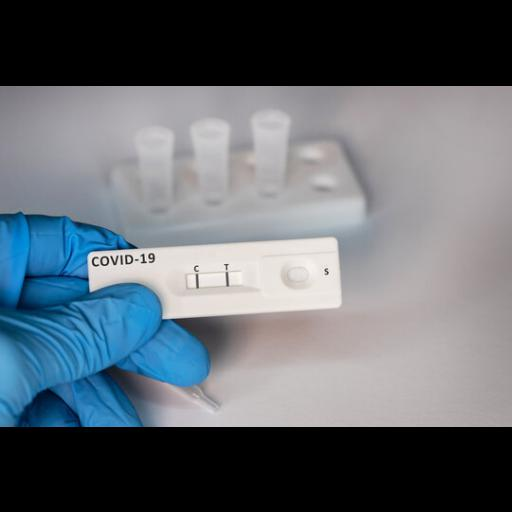Pos: (87, 235, 342, 325)
